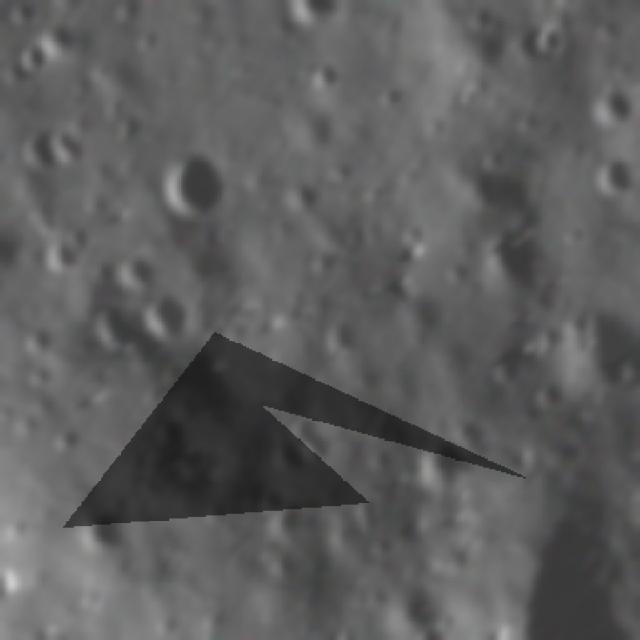crater: (155, 144, 231, 224), (484, 226, 550, 300), (87, 295, 153, 359), (138, 289, 204, 345), (157, 352, 223, 406), (409, 429, 463, 493), (374, 583, 440, 635), (292, 400, 337, 466), (78, 506, 130, 556), (585, 79, 637, 124), (593, 150, 636, 199), (53, 121, 95, 170), (110, 248, 159, 289), (19, 127, 61, 170), (153, 408, 190, 454), (285, 174, 324, 217), (38, 238, 79, 278), (466, 4, 508, 38), (530, 20, 567, 57), (14, 36, 52, 72), (7, 0, 48, 31), (536, 378, 572, 412), (310, 57, 342, 94), (470, 136, 508, 167), (453, 79, 485, 113), (511, 404, 544, 430), (380, 84, 403, 110)
